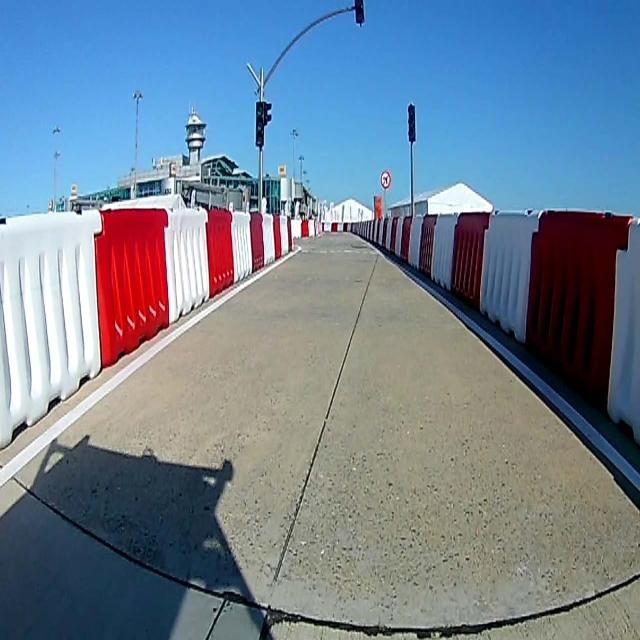soladonulmez: (378, 168, 392, 190)
